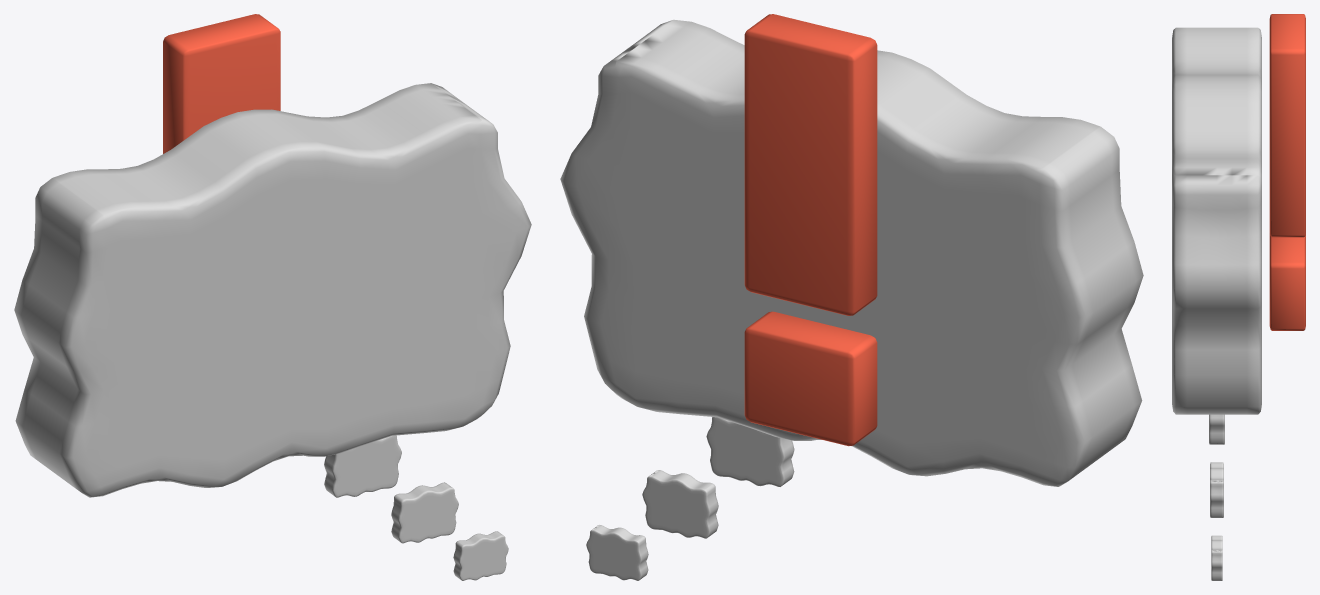
The model's file is orange.fbx.
The picture shows the model from 3 angles, left to right: view 1: azimuth 30°, elevation 25°; view 2: azimuth 150°, elevation 25°; view 3: azimuth 270°, elevation 25°; orthographic projection. The views are drawn at different scales.
Parts seen in each view (by area): view 1: wolke, ausrufezeichenorgange; view 2: wolke, ausrufezeichenorgange; view 3: wolke, ausrufezeichenorgange.
Boxes of the visible parts, x1,y1,x2,y2 form: wolke: (14,83,531,580); ausrufezeichenorgange: (163,14,280,153); wolke: (560,19,1143,580); ausrufezeichenorgange: (744,14,877,446); wolke: (1172,27,1261,580); ausrufezeichenorgange: (1269,14,1305,330).
Bounding box in the file's own units: 353 × 409 × 108.
